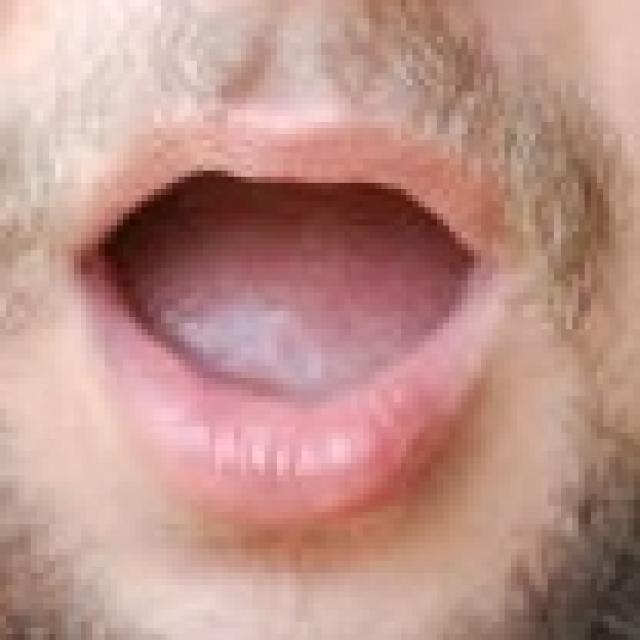open-mouth: (61, 110, 517, 530)
